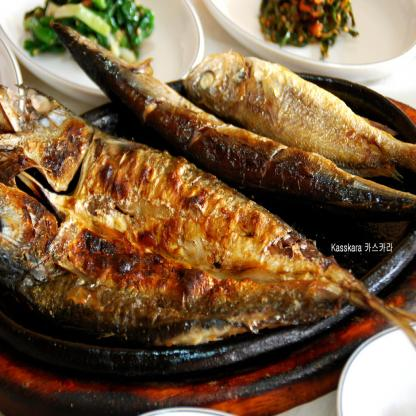Peixe: (0, 44, 402, 334)
